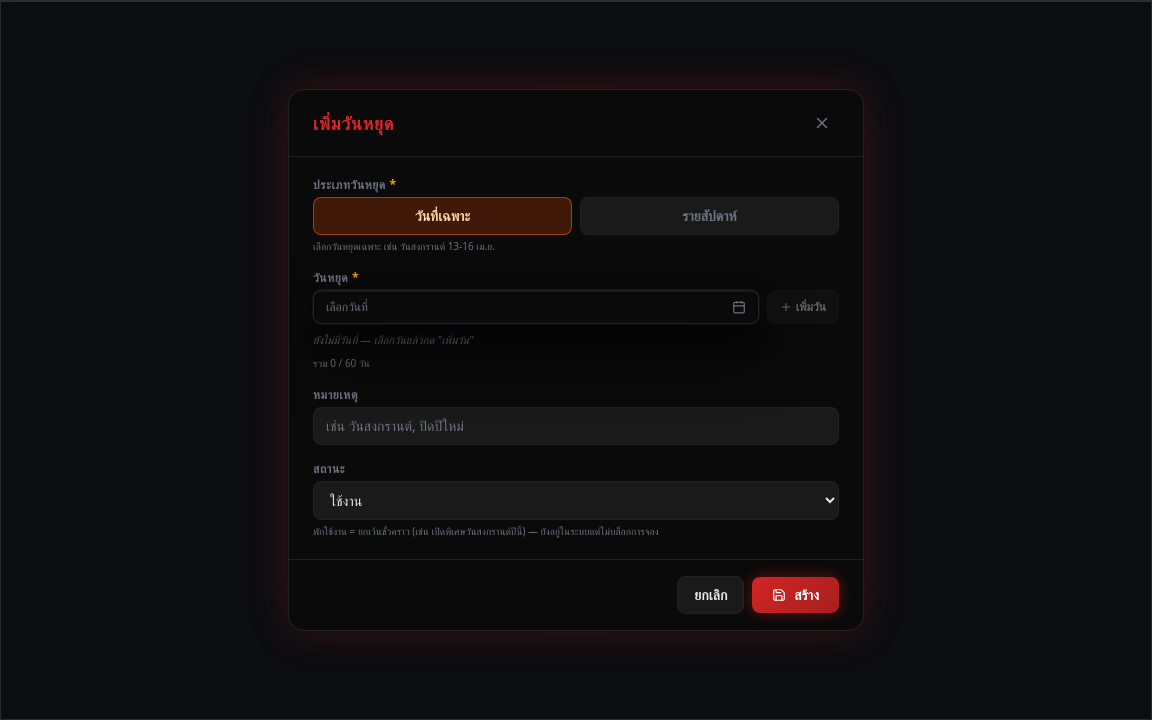
Test: HolidayFormModal — HM1..HM7 › HM3: save empty specific dates → error
The width and height of the screenshot is (1152, 720).
What coordinates should you click on to do the following:
click the button "สร้าง"
I would click on:
 (796, 595)
Its box is [752, 577, 839, 613].
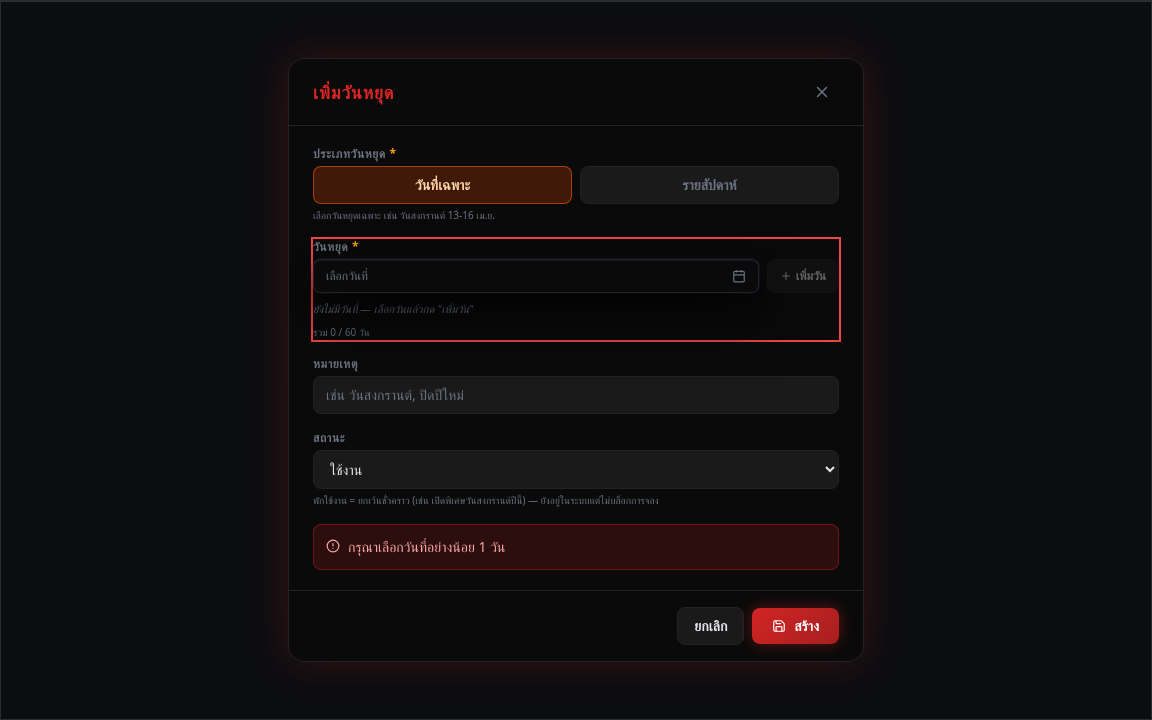
Expected: the text "กรุณาเลือกวันที่อย่างน้อย 1 วัน" is shown, [348, 537, 505, 557]
